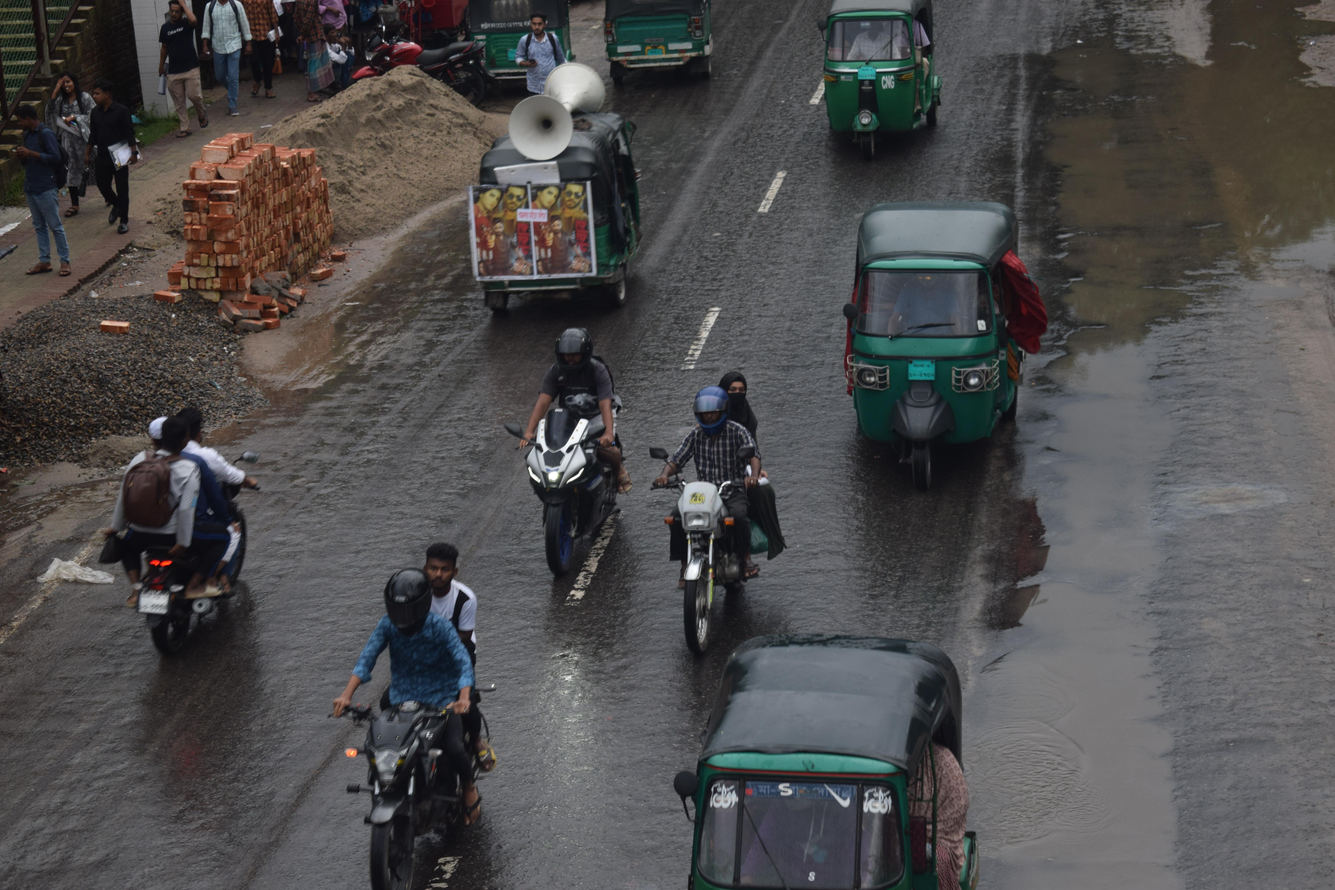Bike: (275, 522, 544, 890), (70, 350, 295, 677), (473, 299, 663, 612), (630, 350, 808, 677)
